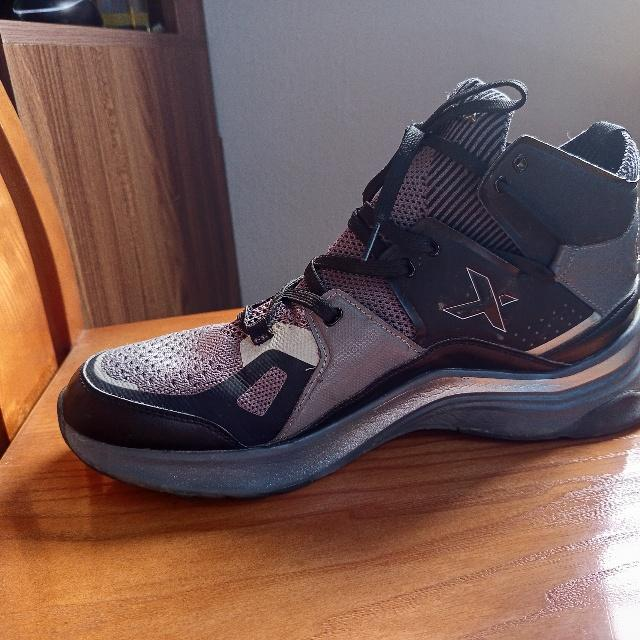broken: (363, 311, 378, 325)
